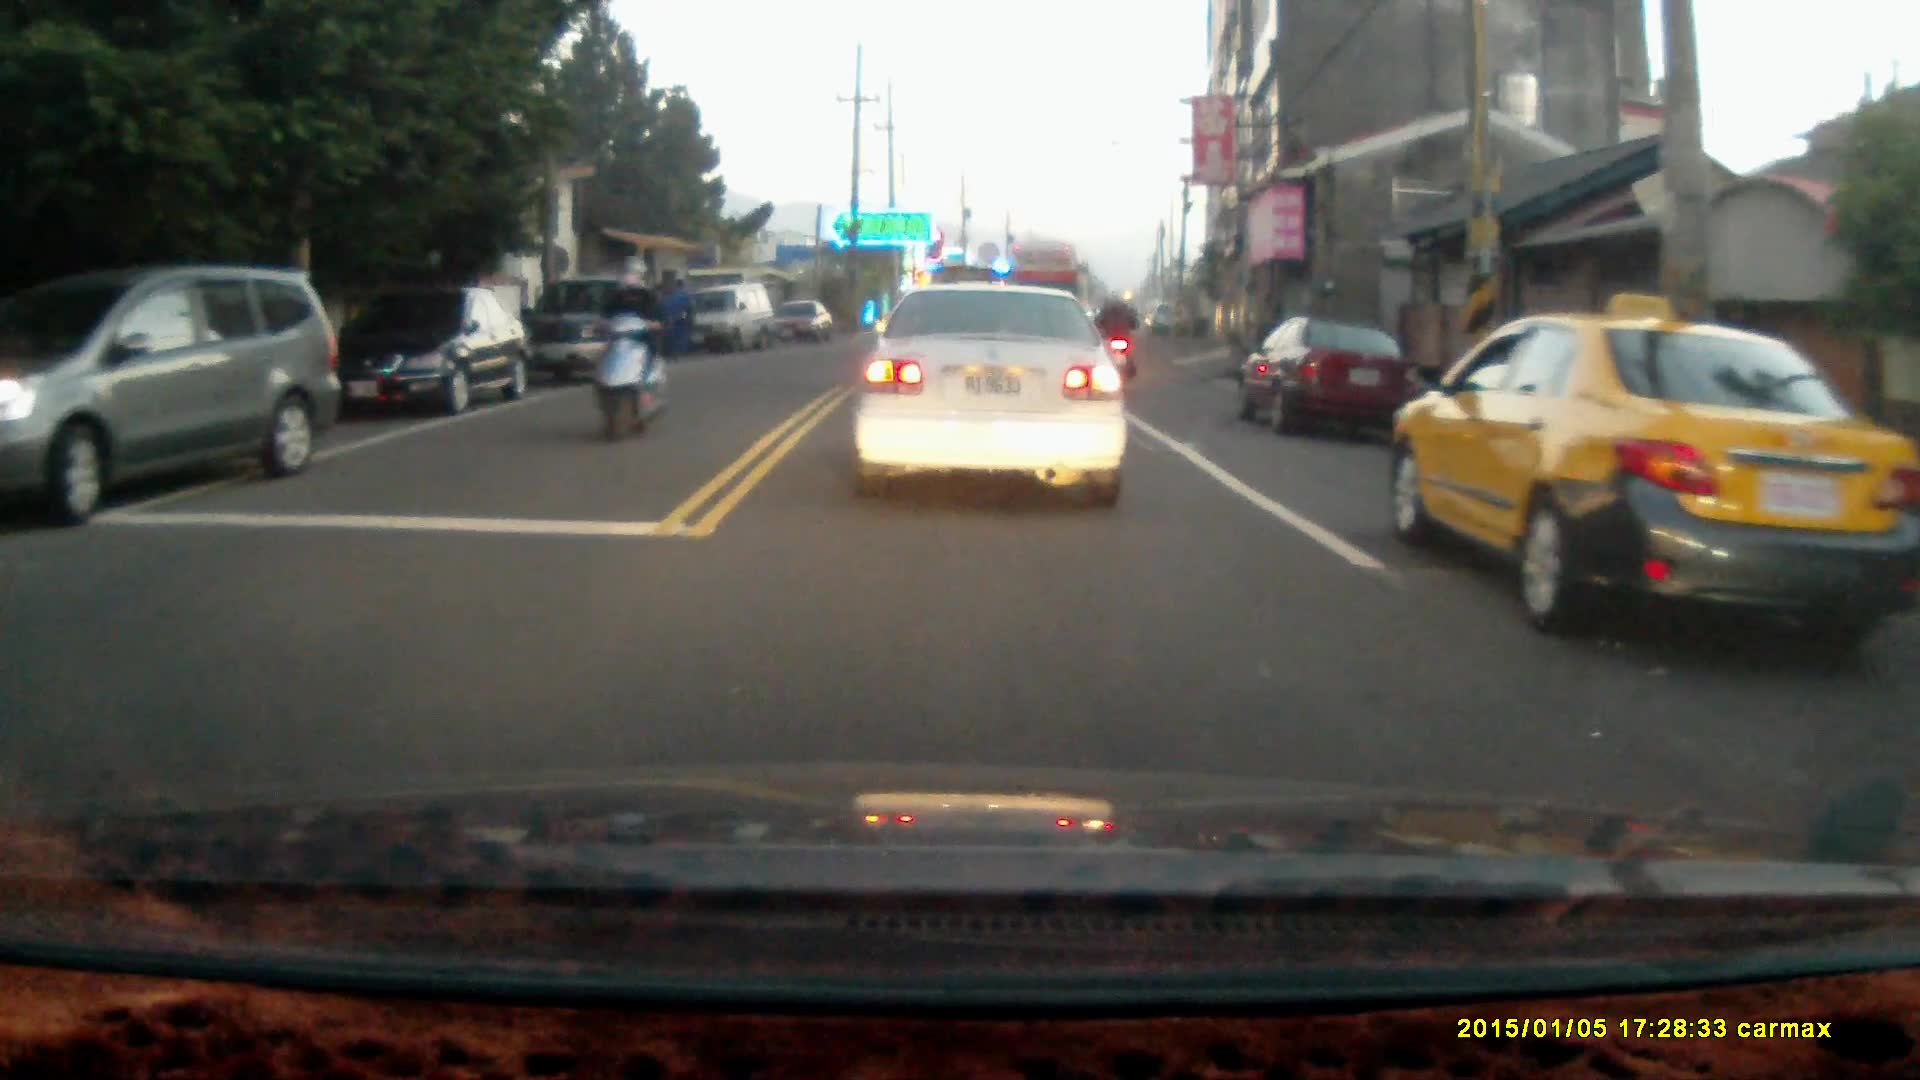pedestrian: (668, 274, 694, 356)
rider: (582, 251, 665, 444), (1084, 284, 1138, 397)
vehicle: (1383, 318, 1914, 650), (1, 265, 341, 527), (852, 286, 1127, 512), (322, 286, 536, 417), (1238, 318, 1424, 438), (516, 269, 671, 390), (673, 284, 774, 357), (759, 302, 836, 353)
